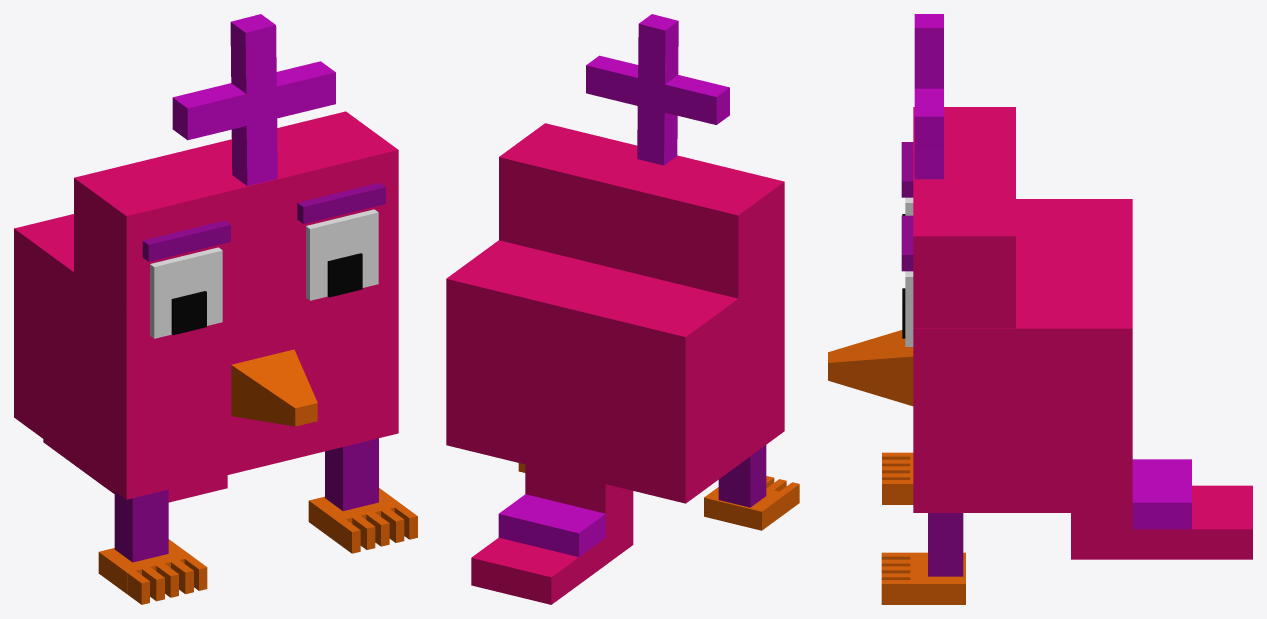
Rendered from bird.fbx.
The picture shows the model from 3 angles, left to right: view 1: azimuth 30°, elevation 25°; view 2: azimuth 150°, elevation 25°; view 3: azimuth 270°, elevation 25°; orthographic projection. The views are drawn at different scales.
Parts seen in each view (by area): view 1: pCube220, pCube43, pCube45, pCube219, pCube221, pCube47, pCube46, pCube60, pCube222, pCube48, pCube229, pCube44 (+17 smaller); view 2: pCube220, pCube225, pCube221, pCube219, pCube226, pCube223, pCube228, pCube224, pCube227, pCube222, pCube245, pCube60 (+11 smaller); view 3: pCube221, pCube48, pCube47, pCube59, pCube228, pCube58, pCube227, pCube245, pCube229, pCube246, pCube219, pCube220 (+15 smaller).
Part boxes in pixels (<box>): pCube220: <box>74,155,217,311</box>; pCube43: <box>74,368,217,499</box>; pCube45: <box>74,272,217,404</box>; pCube219: <box>165,139,308,287</box>; pCube221: <box>277,111,398,249</box>; pCube47: <box>307,338,398,455</box>; pCube46: <box>217,267,308,381</box>; pCube60: <box>230,14,277,185</box>; pCube222: <box>172,61,335,140</box>; pCube48: <box>307,244,398,361</box>; pCube229: <box>231,349,317,426</box>; pCube44: <box>217,362,308,477</box>; pCube220: <box>658,162,784,298</box>; pCube225: <box>605,297,712,420</box>; pCube221: <box>499,123,623,259</box>; pCube219: <box>579,142,704,278</box>; pCube226: <box>525,278,632,399</box>; pCube223: <box>605,401,710,503</box>; pCube228: <box>446,260,552,380</box>; pCube224: <box>525,380,605,483</box>; pCube227: <box>446,361,526,464</box>; pCube222: <box>586,55,729,124</box>; pCube245: <box>471,538,579,604</box>; pCube60: <box>637,14,678,165</box>; pCube221: <box>913,193,1015,328</box>; pCube48: <box>913,328,1015,421</box>; pCube47: <box>913,420,1015,512</box>; pCube59: <box>1015,285,1076,421</box>; pCube228: <box>1071,285,1132,421</box>; pCube58: <box>1015,420,1076,512</box>; pCube227: <box>1071,420,1132,512</box>; pCube245: <box>1191,485,1252,559</box>; pCube229: <box>828,330,913,406</box>; pCube246: <box>1132,459,1191,529</box>; pCube219: <box>913,150,1015,193</box>; pCube220: <box>913,107,1015,150</box>.
Bounding box in the file's own units: 6.06 × 11.13 × 8.28.
